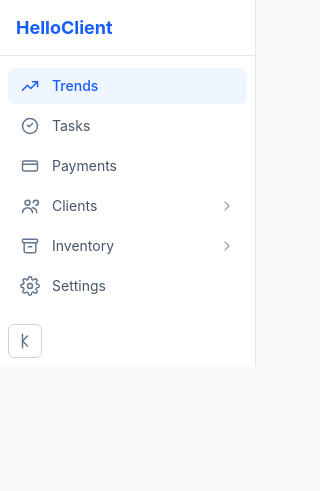
it: Sidebar › аккордеон: открытие Inventory закрывает ранее открытый Clients
The image size is (320, 491).
Click the button "Clients" at (128, 206), box [8,188,247,224]
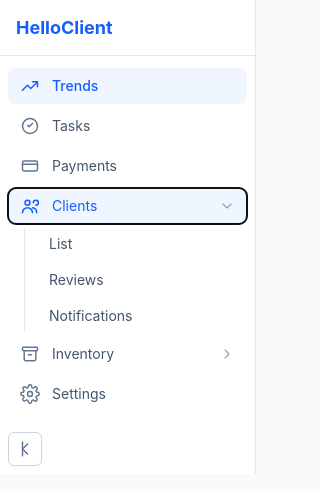
Result: the button "Clients" is expanded at [8,188,247,224]
Click the button "Inventory" at (128, 354), box [8,336,247,372]
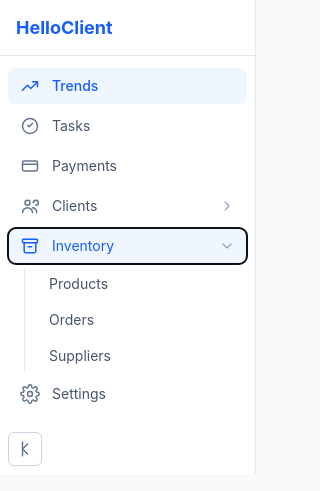
Result: the button "Inventory" is expanded at [8,228,247,264]
Result: the button "Clients" is collapsed at [8,188,247,224]
